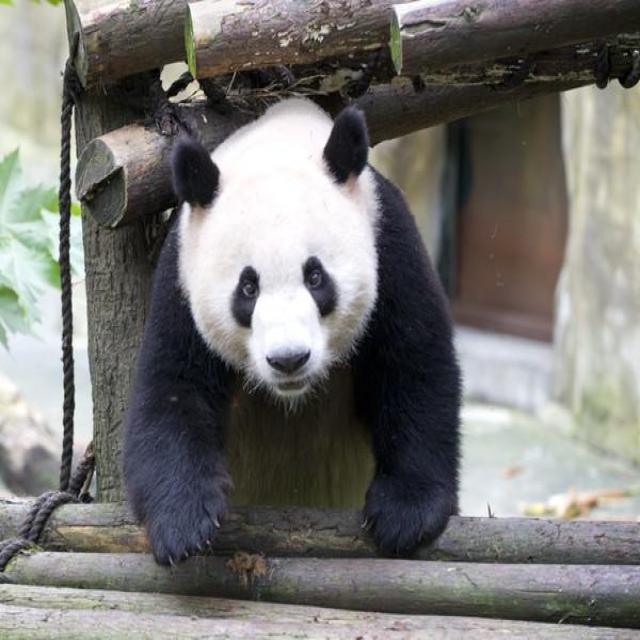panda: (108, 95, 464, 578)
